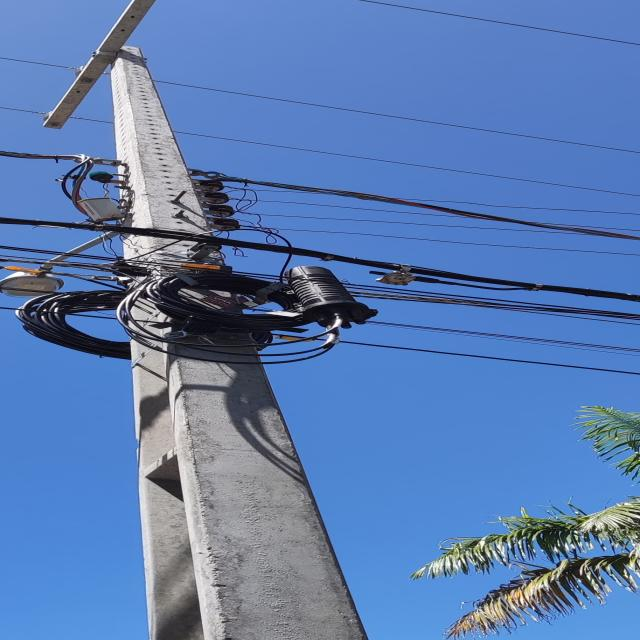Plaqueta: (201, 295, 237, 309)
